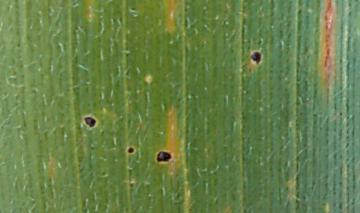tarspot: (155, 151, 173, 163), (83, 117, 97, 128), (250, 51, 262, 63), (127, 146, 135, 154)
